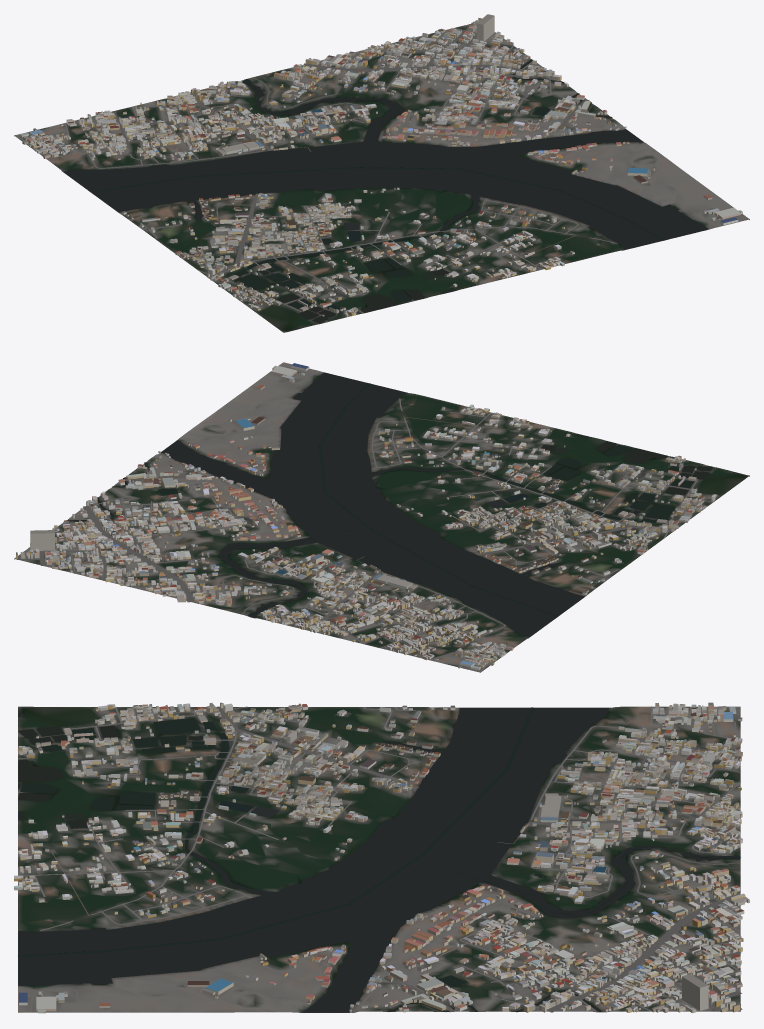
The picture shows the model from 3 angles, top to bottom: view 1: azimuth 30°, elevation 25°; view 2: azimuth 150°, elevation 25°; view 3: azimuth 270°, elevation 25°; orthographic projection. The views are drawn at different scales.
Parts seen in each view (by area): view 1: ground, buildings, water, roads; view 2: ground, buildings, water, roads; view 3: ground, buildings, water, roads.
Boxes of the visible parts, bbox=[...] form: ground: bbox=[14, 24, 749, 332]; buildings: bbox=[19, 14, 742, 316]; water: bbox=[64, 59, 708, 331]; roads: bbox=[15, 24, 744, 316]; ground: bbox=[14, 362, 749, 672]; buildings: bbox=[16, 363, 717, 670]; water: bbox=[66, 372, 743, 636]; roads: bbox=[16, 365, 712, 672]; ground: bbox=[18, 706, 740, 1012]; buildings: bbox=[14, 702, 749, 1013]; water: bbox=[18, 707, 740, 1012]; roads: bbox=[18, 706, 742, 1012].
Bounding box in the file's own units: 1412 × 55.48 × 1426.
